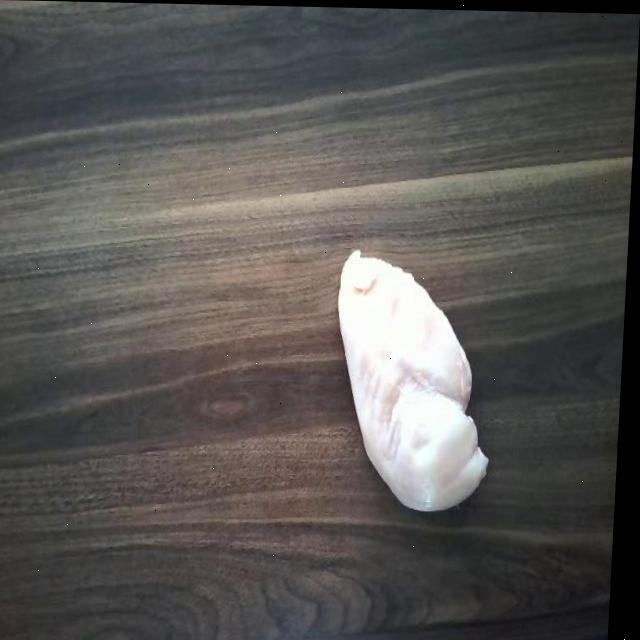breast: (328, 248, 500, 506)
